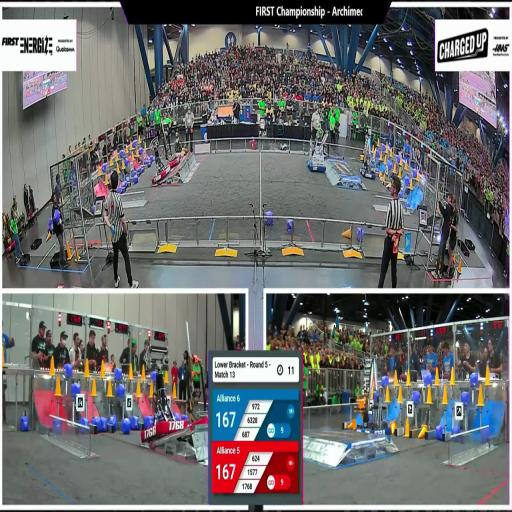robot: (184, 321, 217, 427), (141, 375, 187, 443), (353, 354, 389, 438), (158, 114, 182, 169), (148, 137, 172, 189), (306, 126, 328, 175), (360, 130, 377, 181), (172, 130, 192, 160)
